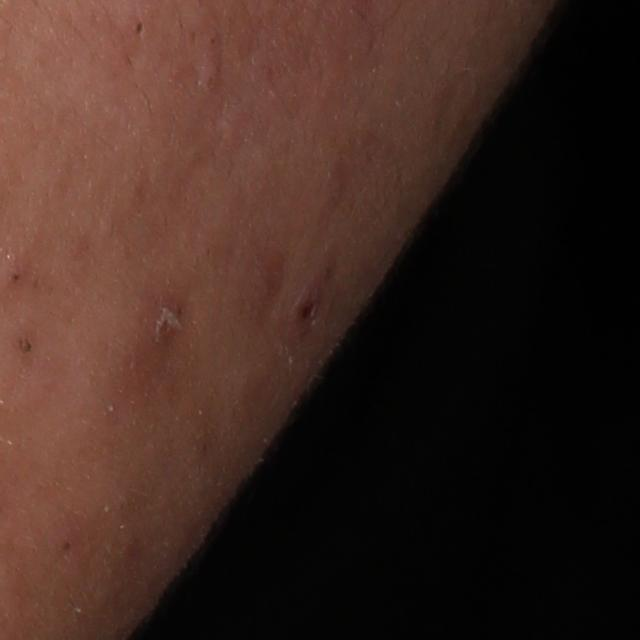comedo: (11, 326, 37, 359), (5, 265, 25, 292), (131, 20, 146, 45)
